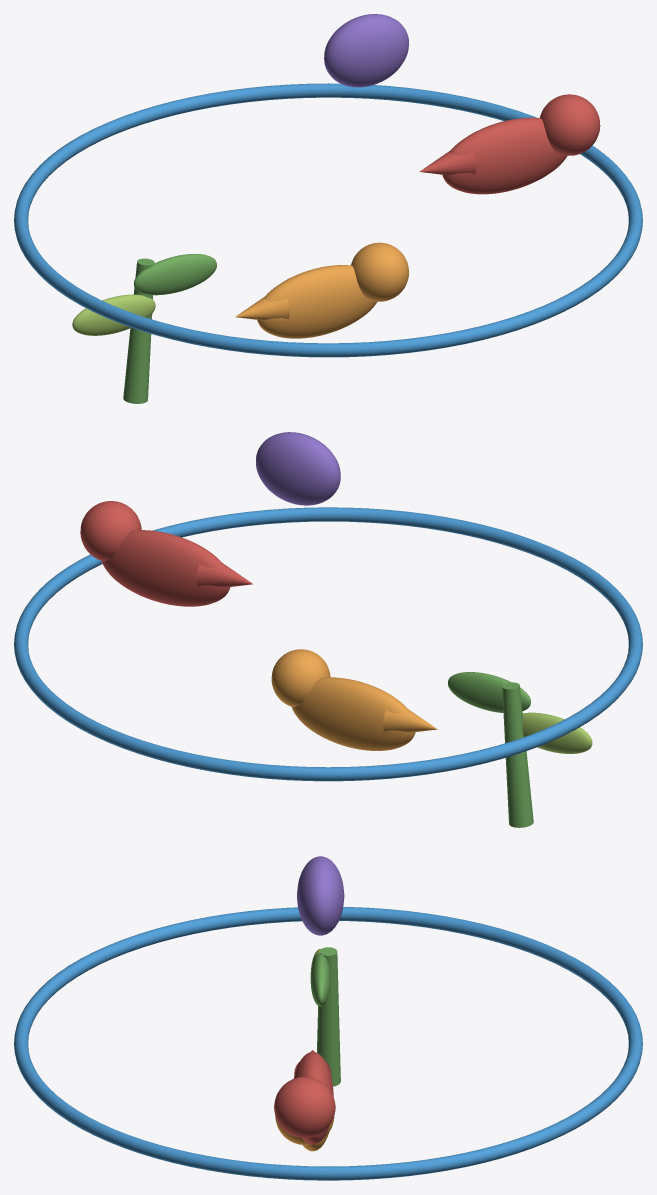
The model's file is bio-p1-community.glb.
3 views of the same model, one above another, from view 1: azimuth 30°, elevation 25°; view 2: azimuth 150°, elevation 25°; view 3: azimuth 270°, elevation 25° (orthographic).
Parts seen in each view (by area): view 1: many-species-together-ring, predator-member-body, herbivore-member-body, fungus-member, predator-member-head, herbivore-member-head, producer-plant-leaf-right, producer-plant-stem, producer-plant-leaf-left, predator-member-tail, herbivore-member-tail; view 2: many-species-together-ring, predator-member-body, herbivore-member-body, fungus-member, producer-plant-stem, predator-member-head, herbivore-member-head, producer-plant-leaf-right, producer-plant-leaf-left, predator-member-tail, herbivore-member-tail; view 3: many-species-together-ring, predator-member-head, fungus-member, producer-plant-stem, predator-member-body, producer-plant-leaf-right.
Boxes of the visible parts, box(x1,y1,x2,y2) form: many-species-together-ring: box(14, 83, 642, 357); predator-member-body: box(442, 117, 567, 194); herbivore-member-body: box(257, 265, 377, 338); fungus-member: box(324, 14, 408, 87); predator-member-head: box(540, 94, 600, 155); herbivore-member-head: box(351, 242, 408, 301); producer-plant-leaf-right: box(133, 254, 216, 295); producer-plant-stem: box(123, 258, 154, 403); producer-plant-leaf-left: box(72, 294, 155, 335); predator-member-tail: box(419, 150, 476, 174); herbivore-member-tail: box(235, 296, 289, 320); many-species-together-ring: box(14, 507, 642, 781); predator-member-body: box(101, 530, 230, 606); herbivore-member-body: box(291, 677, 415, 750); fungus-member: box(256, 432, 340, 505); producer-plant-stem: box(502, 682, 533, 827); predator-member-head: box(80, 501, 141, 561); herbivore-member-head: box(271, 649, 330, 707); producer-plant-leaf-right: box(448, 672, 530, 712); producer-plant-leaf-left: box(522, 712, 592, 753); predator-member-tail: box(196, 563, 252, 587); herbivore-member-tail: box(383, 709, 437, 732); many-species-together-ring: box(14, 907, 642, 1180); predator-member-head: box(274, 1076, 335, 1137); fungus-member: box(297, 856, 344, 935); producer-plant-stem: box(317, 947, 340, 1086); predator-member-body: box(294, 1052, 333, 1144); producer-plant-leaf-right: box(310, 953, 330, 1006).
Size of what is drawn, in the model's own units: 1.6 by 0.9269 by 1.6.
